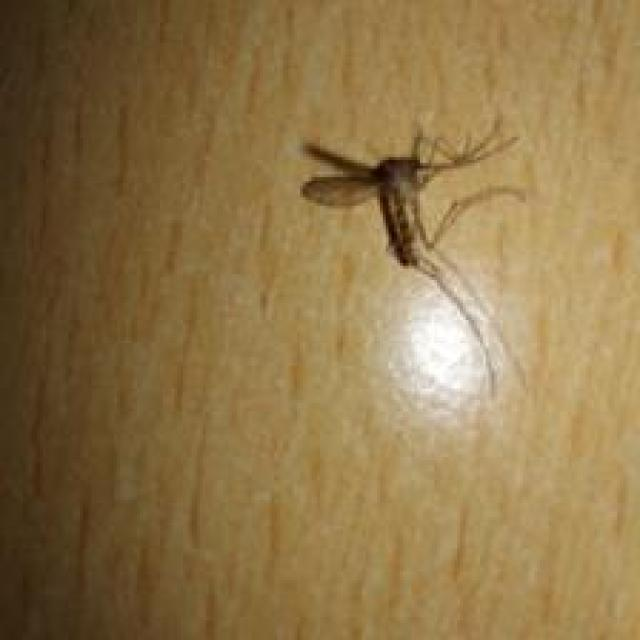Culex: (297, 111, 529, 400)
